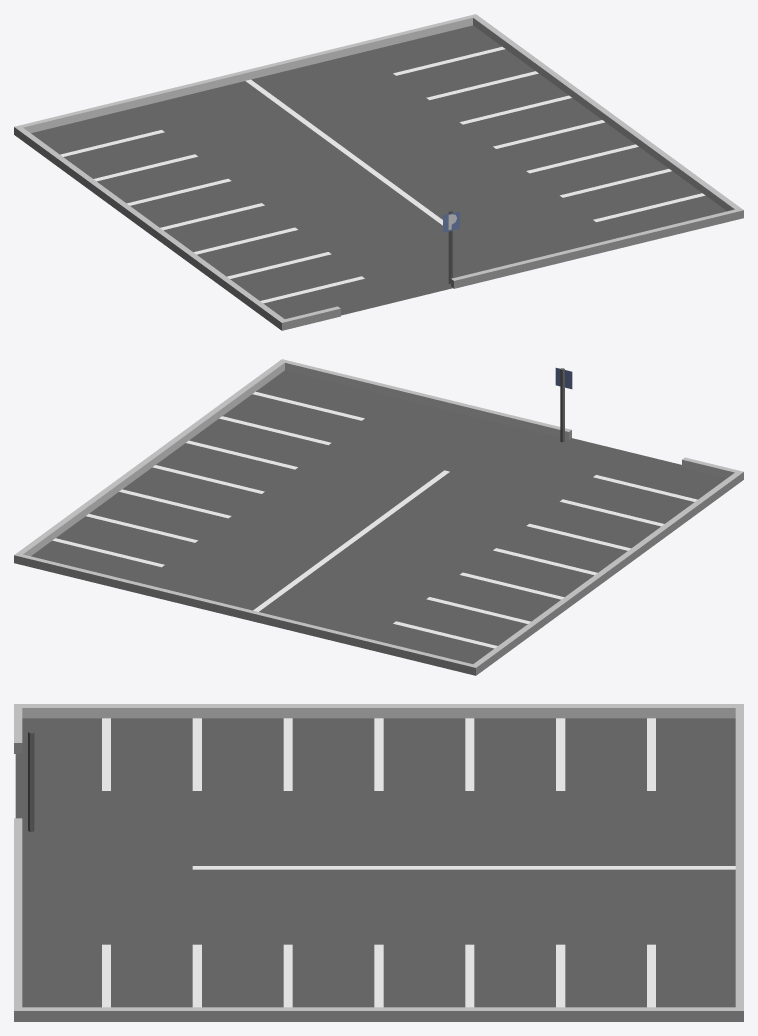
The model's file is parking_tile_2x2_004.fbx.
The picture shows the model from 3 angles, top to bottom: view 1: azimuth 30°, elevation 25°; view 2: azimuth 150°, elevation 25°; view 3: azimuth 270°, elevation 25°; orthographic projection. The views are drawn at different scales.
Parts seen in each view (by area): view 1: parking_tile_2x2_004; view 2: parking_tile_2x2_004; view 3: parking_tile_2x2_004.
Part boxes in pixels (x1,y1,x2,y2): parking_tile_2x2_004: (14,14,743,330); parking_tile_2x2_004: (14,359,743,675); parking_tile_2x2_004: (14,704,743,1021).
Bounding box in the file's own units: 1600 × 247 × 1607.
